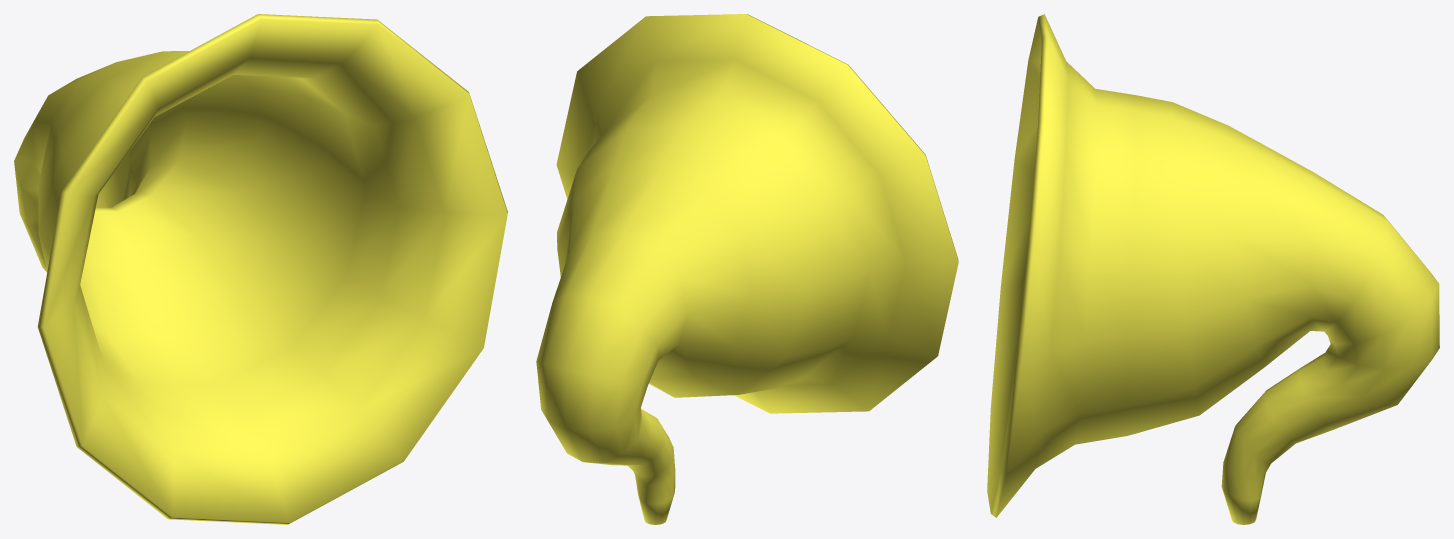
The model's file is Gramophone_Horn.fbx.
3 views of the same model, side by side, from view 1: azimuth 30°, elevation 25°; view 2: azimuth 150°, elevation 25°; view 3: azimuth 270°, elevation 25° (orthographic). The views are drawn at different scales.
Parts seen in each view (by area): view 1: Horn; view 2: Horn; view 3: Horn.
Boxes of the visible parts, x1=… form: Horn: x1=14, y1=14, x2=507, y2=524; Horn: x1=536, y1=14, x2=958, y2=524; Horn: x1=987, y1=14, x2=1439, y2=524.
Bounding box in the file's own units: 86.97 × 91.11 × 77.43.
